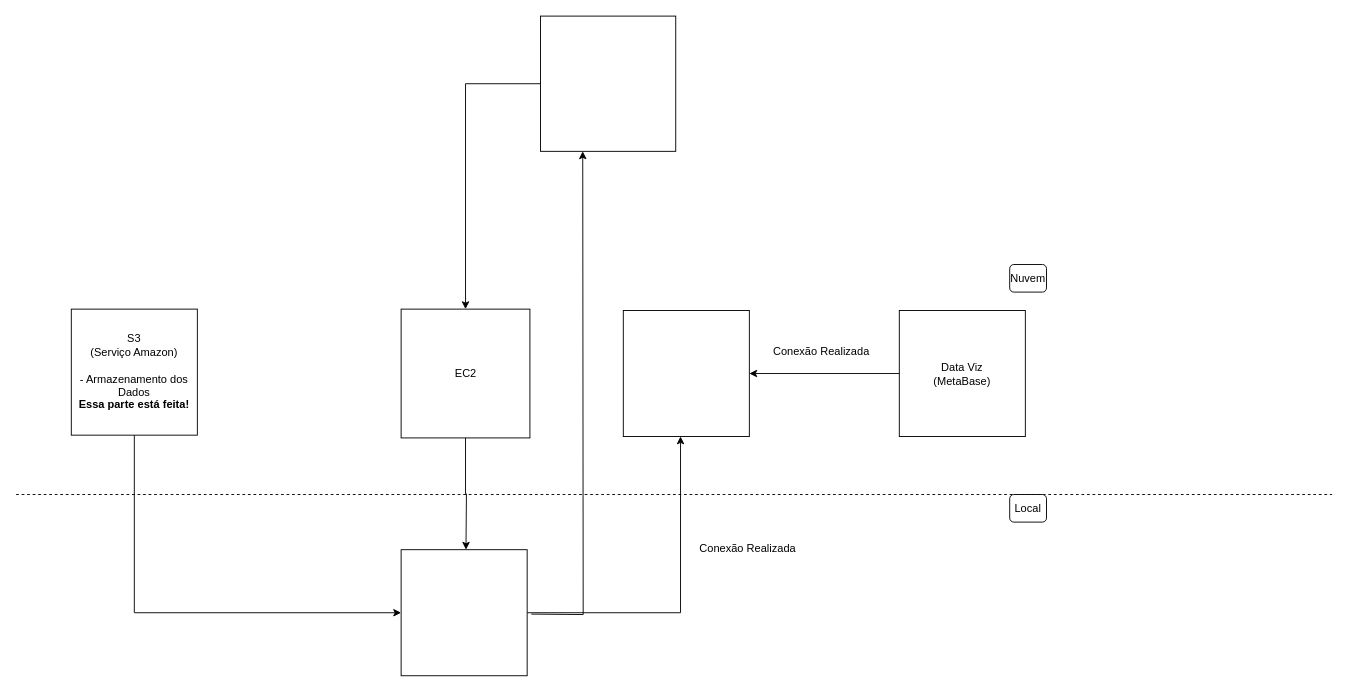
Some shapes in this 1350 by 692 pixel diagram are drawn without their labels. Here are the shapes that lost their labels. From the top down, the centre of each, then its label:
the point at 608,83: GitHub
the point at 685,373: Banco de Dados RDS (PostgreSQL) Esta parte está feita!
the point at 463,612: Jupyter Notebook (Deploy)
